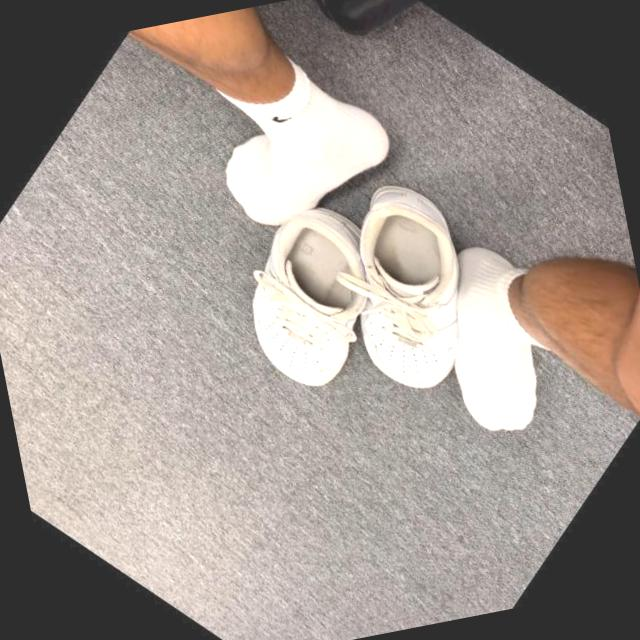nike_original_airforce: (272, 148, 552, 430), (188, 162, 446, 420)
